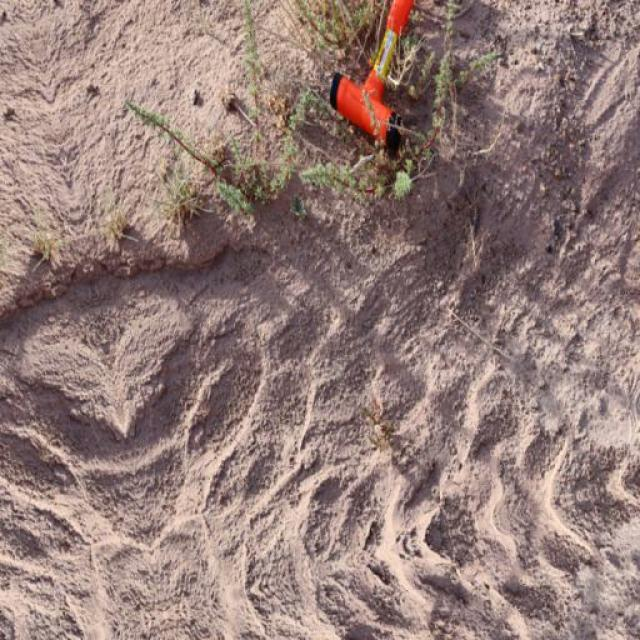mallet: (326, 0, 415, 159)
